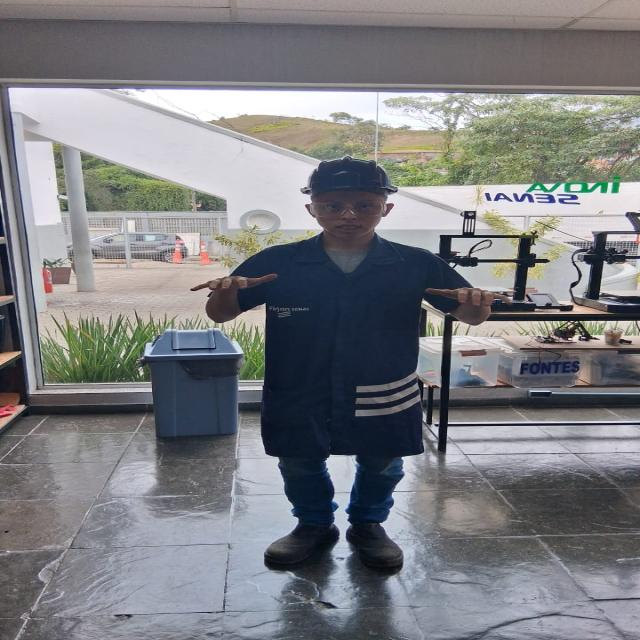BOTA: (261, 519, 339, 566), (345, 518, 402, 569)
CAPACETE: (297, 151, 405, 195)
JALECO: (204, 228, 488, 462)
OCULOS: (297, 199, 392, 219)
SEM LUVA: (181, 269, 284, 296), (421, 285, 509, 312)
